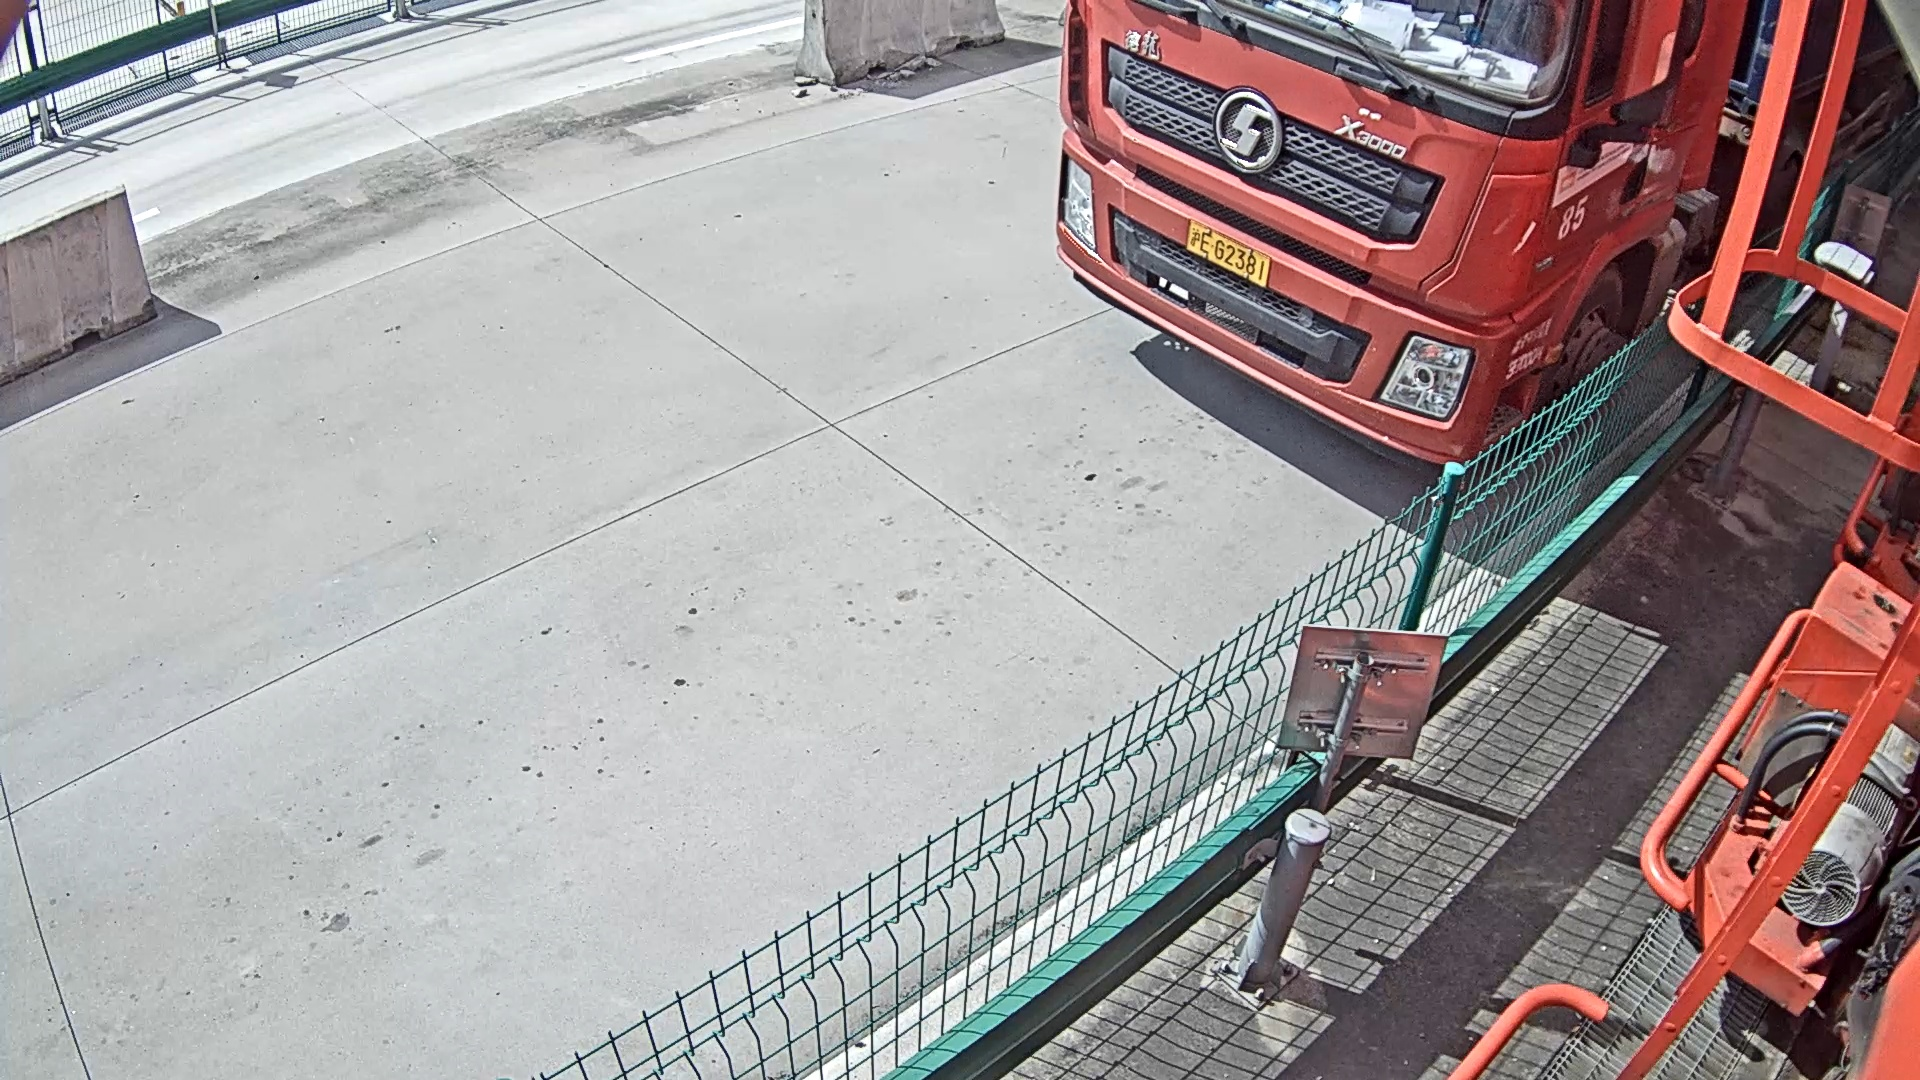head: (1062, 2, 1749, 476)
plate: (1189, 220, 1272, 285)
